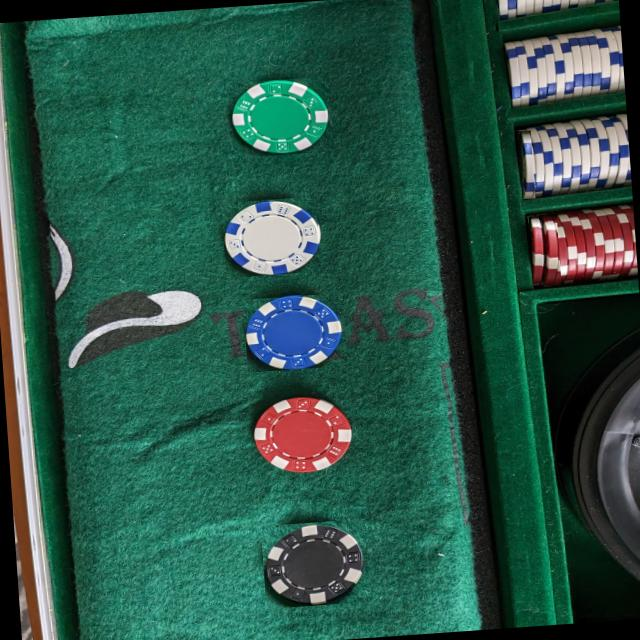black chip: (264, 520, 366, 604)
blue chip: (245, 294, 344, 367)
green chip: (232, 78, 330, 154)
red chip: (255, 394, 354, 473), (542, 213, 559, 284), (529, 214, 542, 282)
white chip: (224, 198, 318, 272), (505, 40, 522, 106), (522, 130, 532, 197)
